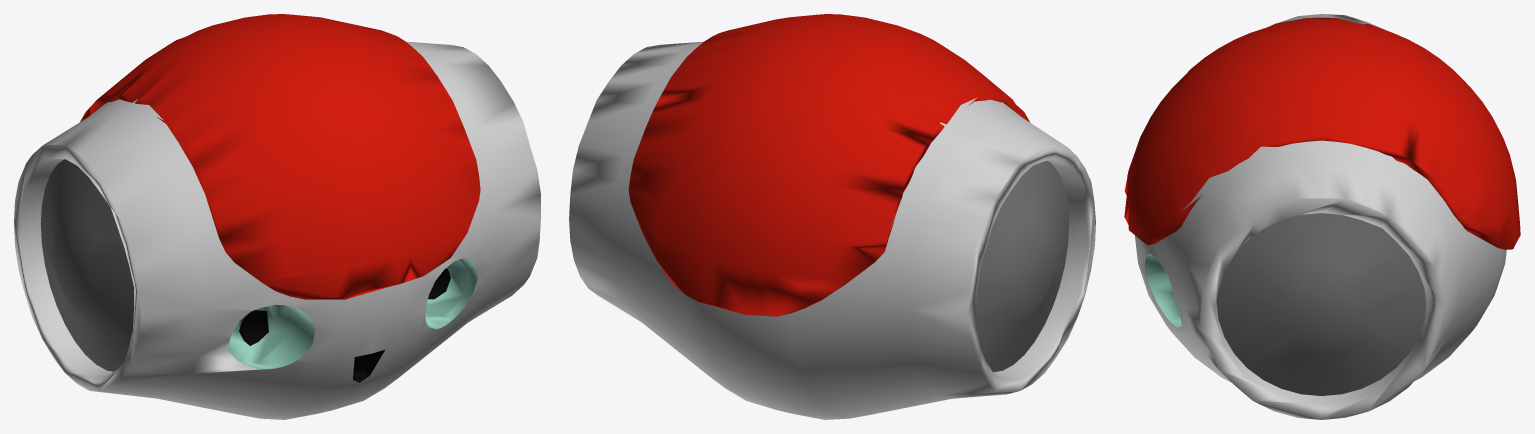
The model's file is Nao6_Head.obj.
The picture shows the model from 3 angles, left to right: view 1: azimuth 30°, elevation 25°; view 2: azimuth 150°, elevation 25°; view 3: azimuth 270°, elevation 25°; orthographic projection. The views are drawn at different scales.
Parts seen in each view (by area): view 1: Nao6_Head; view 2: Nao6_Head; view 3: Nao6_Head.
Part boxes in pixels (x1,y1,x2,y2): Nao6_Head: (14,14,540,419); Nao6_Head: (569,14,1095,419); Nao6_Head: (1124,14,1520,419).
Size of the model in its own units: 0.8789 by 0.7457 by 0.7724.
